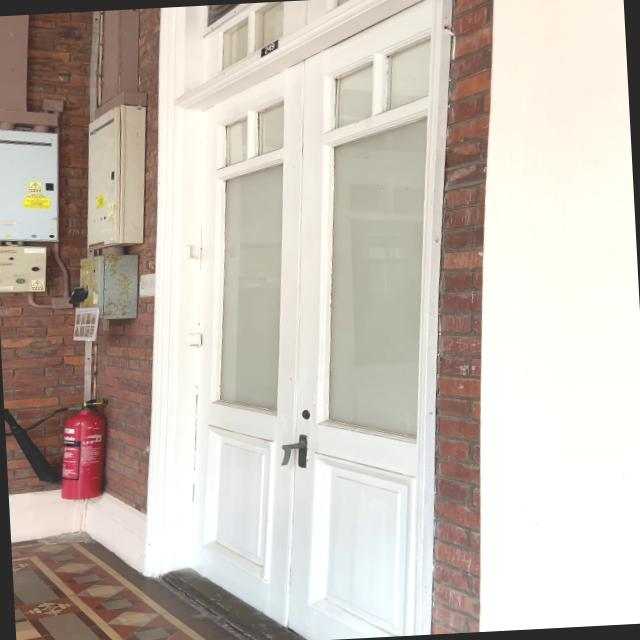room249: (253, 35, 284, 61)
